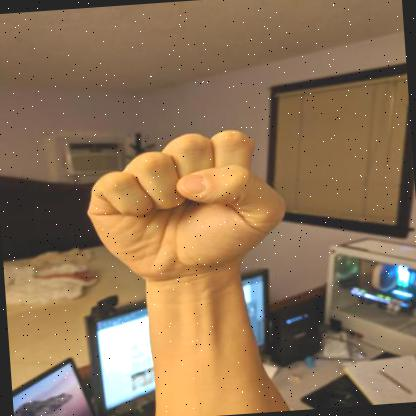S: (87, 130, 286, 284)
